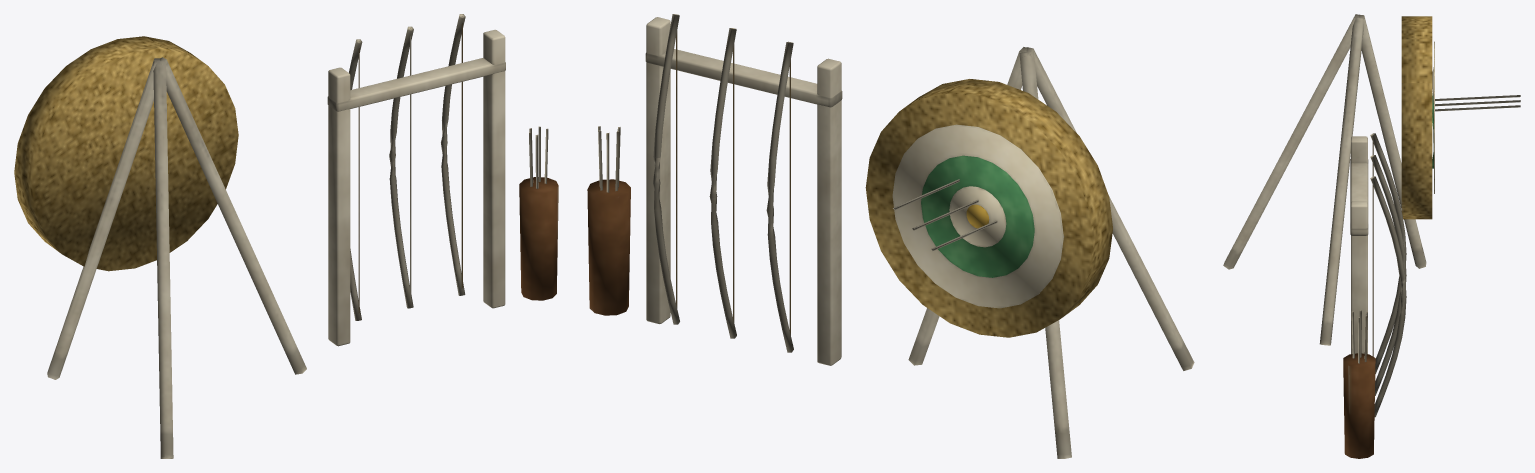
File: archery_butts.obj
3 renders of one model, left to right at view 1: azimuth 30°, elevation 25°; view 2: azimuth 150°, elevation 25°; view 3: azimuth 270°, elevation 25°, orthographic. The views are drawn at different scales.
Visible parts, largest first — view 1: part1, part0, part7, part2, part3; view 2: part1, part0, part4, part5, part2, part7, part3; view 3: part0, part1, part2, part7, part3.
Boxes of the visible parts, bbox=[...] form: part1: bbox=[14, 36, 238, 271]; part0: bbox=[47, 29, 548, 458]; part7: bbox=[519, 177, 558, 300]; part2: bbox=[349, 14, 465, 320]; part3: bbox=[358, 16, 462, 313]; part1: bbox=[865, 79, 1112, 337]; part0: bbox=[598, 17, 1194, 458]; part4: bbox=[892, 124, 1064, 308]; part5: bbox=[921, 155, 1034, 277]; part2: bbox=[653, 14, 793, 352]; part7: bbox=[587, 179, 630, 315]; part3: bbox=[676, 14, 790, 334]; part0: bbox=[1223, 14, 1520, 363]; part1: bbox=[1401, 16, 1432, 219]; part2: bbox=[1370, 133, 1406, 417]; part7: bbox=[1343, 353, 1375, 458]; part3: bbox=[1372, 141, 1373, 356].
Size of the model in its own units: 2.9 by 1.83 by 1.75.
